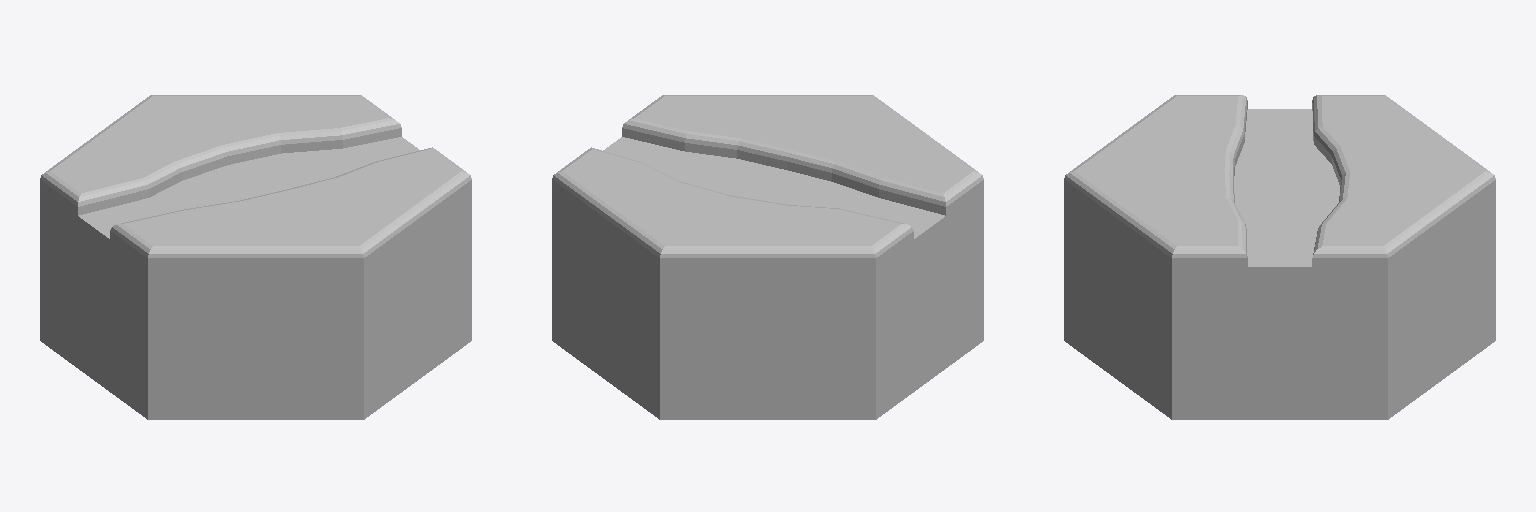
The model's file is hex_sand_roadB.obj.
The picture shows the model from 3 angles: view 1: azimuth 30°, elevation 25°; view 2: azimuth 150°, elevation 25°; view 3: azimuth 270°, elevation 25°; orthographic projection.
Parts seen in each view (by area): view 1: hex_sand_roadB_Cylinder.625; view 2: hex_sand_roadB_Cylinder.625; view 3: hex_sand_roadB_Cylinder.625.
Part boxes in pixels (x1,y1,x2,y2): hex_sand_roadB_Cylinder.625: (40, 95, 471, 419); hex_sand_roadB_Cylinder.625: (552, 95, 983, 419); hex_sand_roadB_Cylinder.625: (1064, 95, 1495, 419).
Size of the model in its own units: 2 by 1 by 2.31.